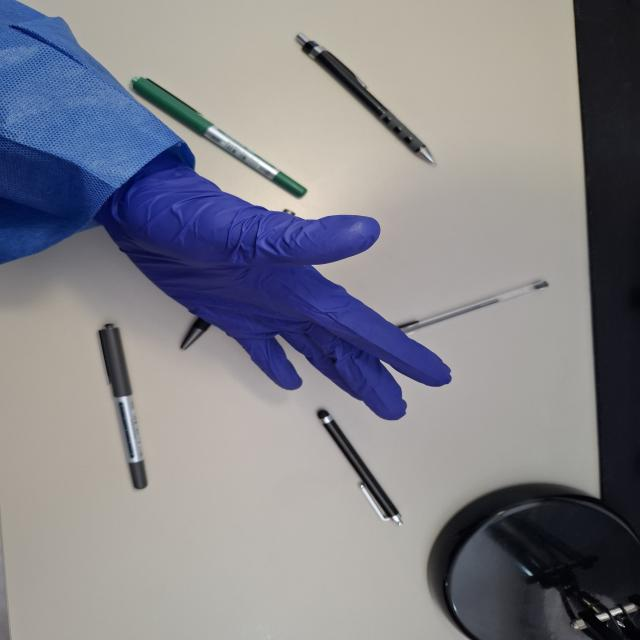glove_on: (84, 156, 458, 426)
